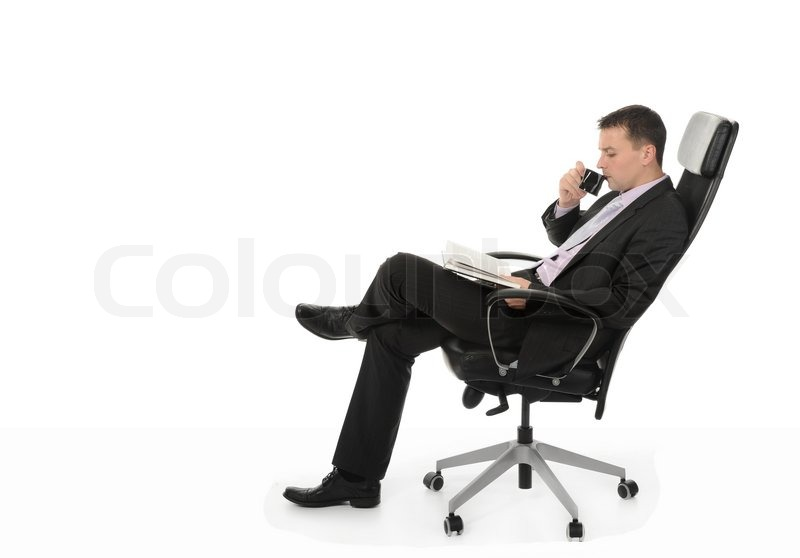chairs: (420, 105, 742, 542)
